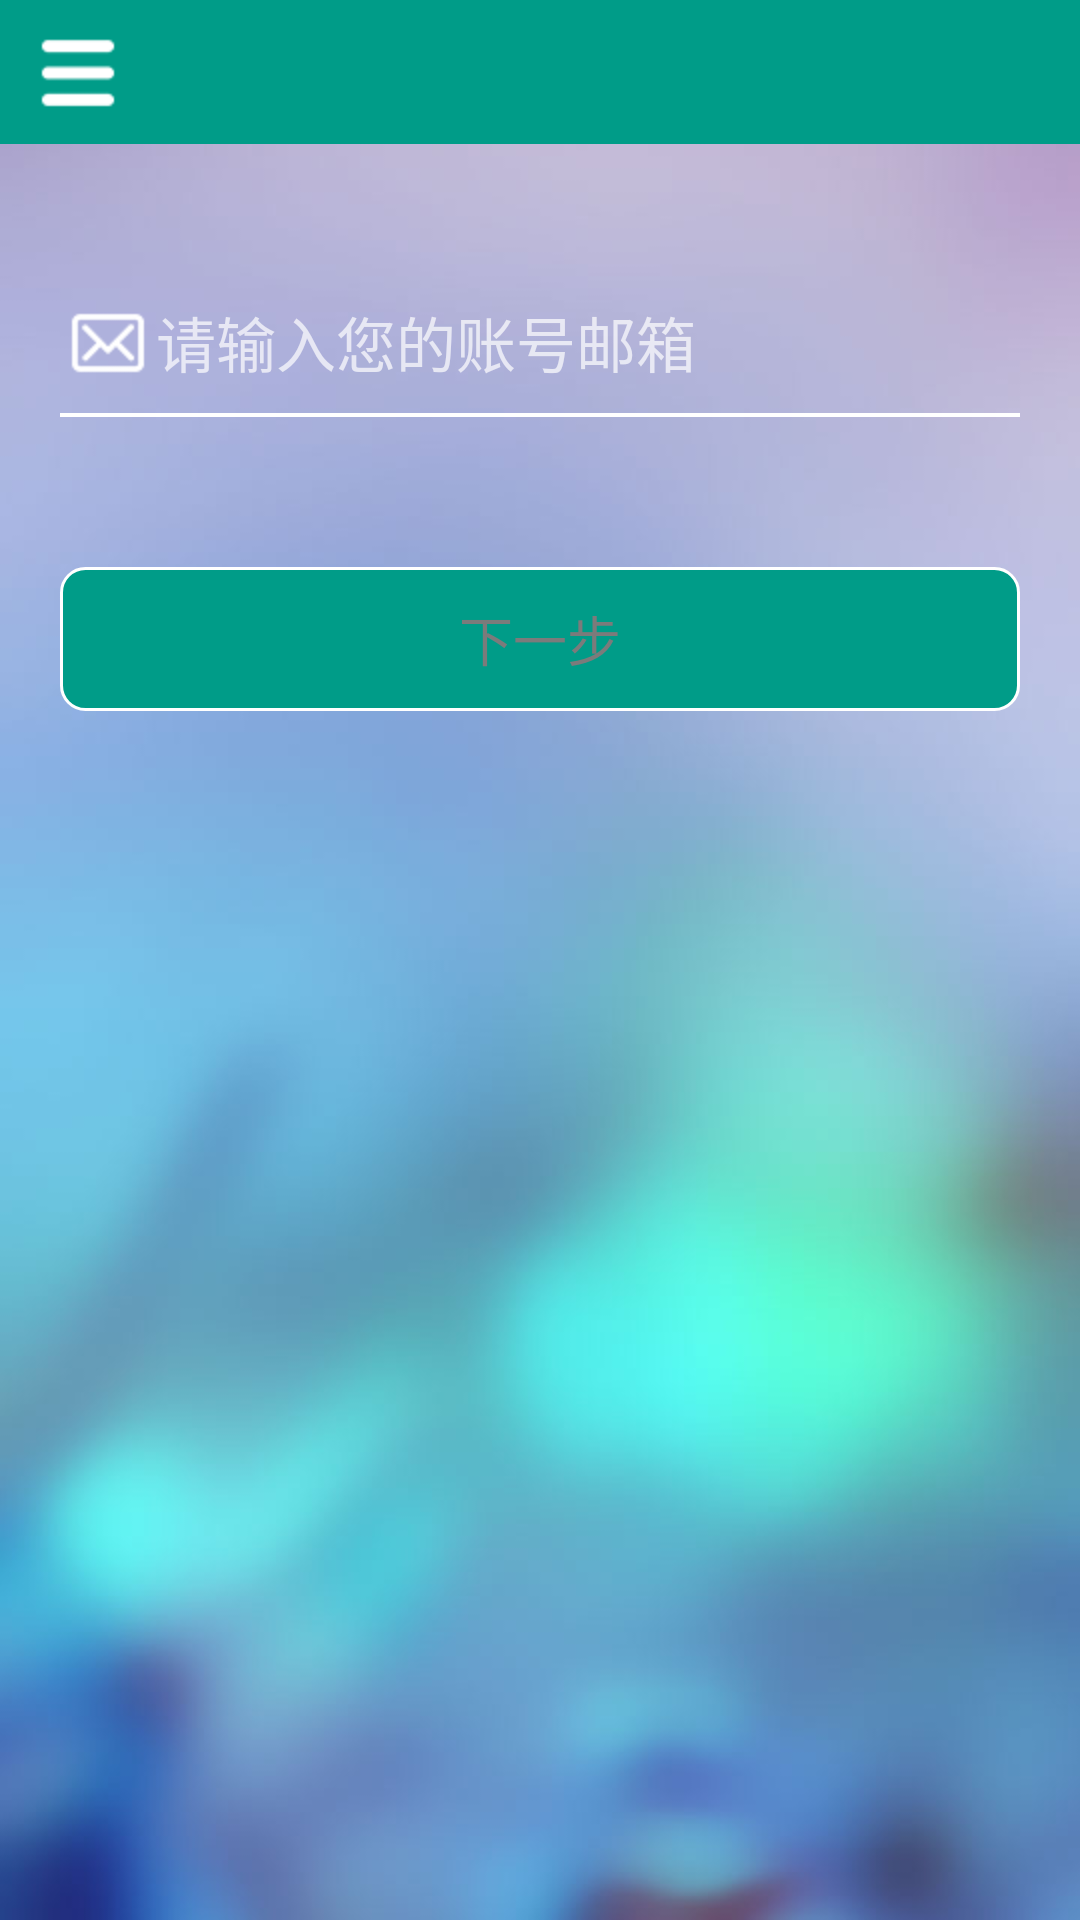

Icons on this 1080px x 1920px Android screen, each with its box as BBox(x1, y1, x2, y2):
menu: BBox(41, 39, 115, 107)
